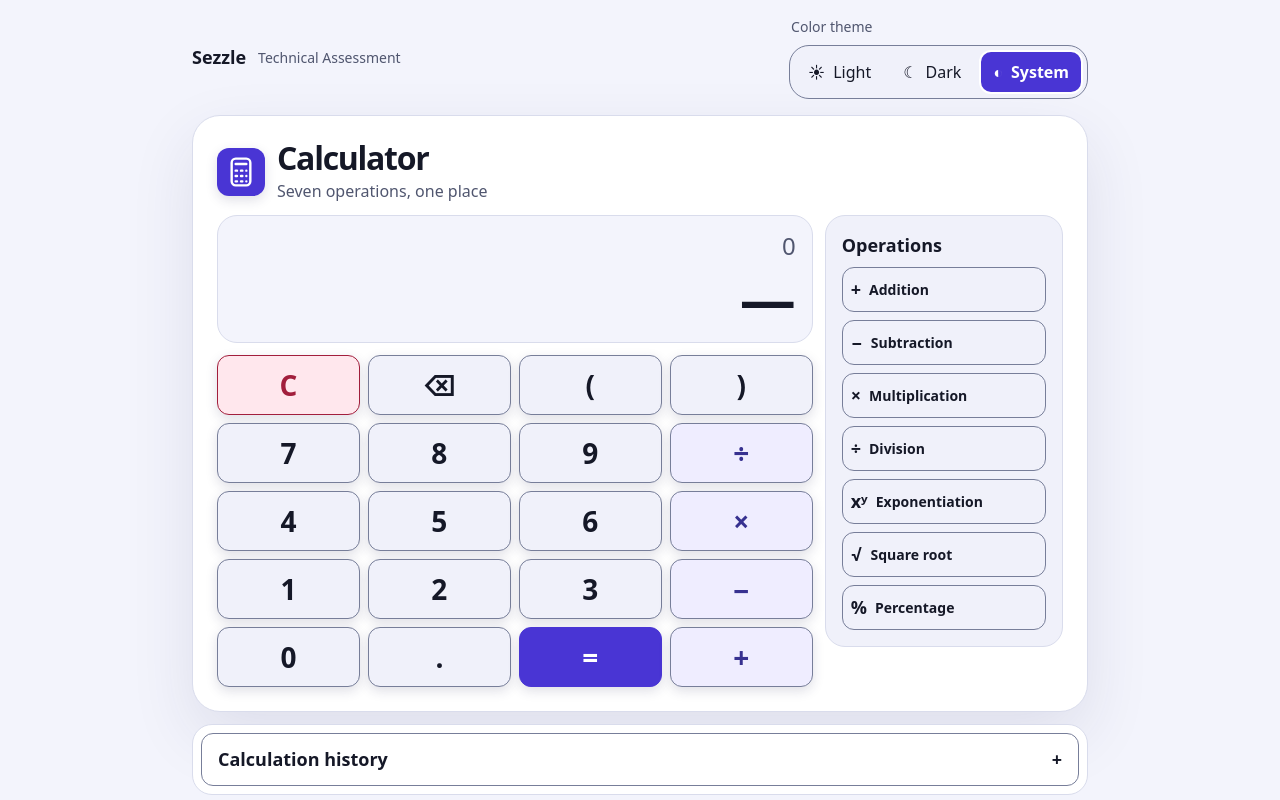
it: functional calculator integration › evaluates once with Enter after interacting with Decimal point
Click the button named "Decimal point".
click(439, 657)  # box [368, 627, 511, 687]
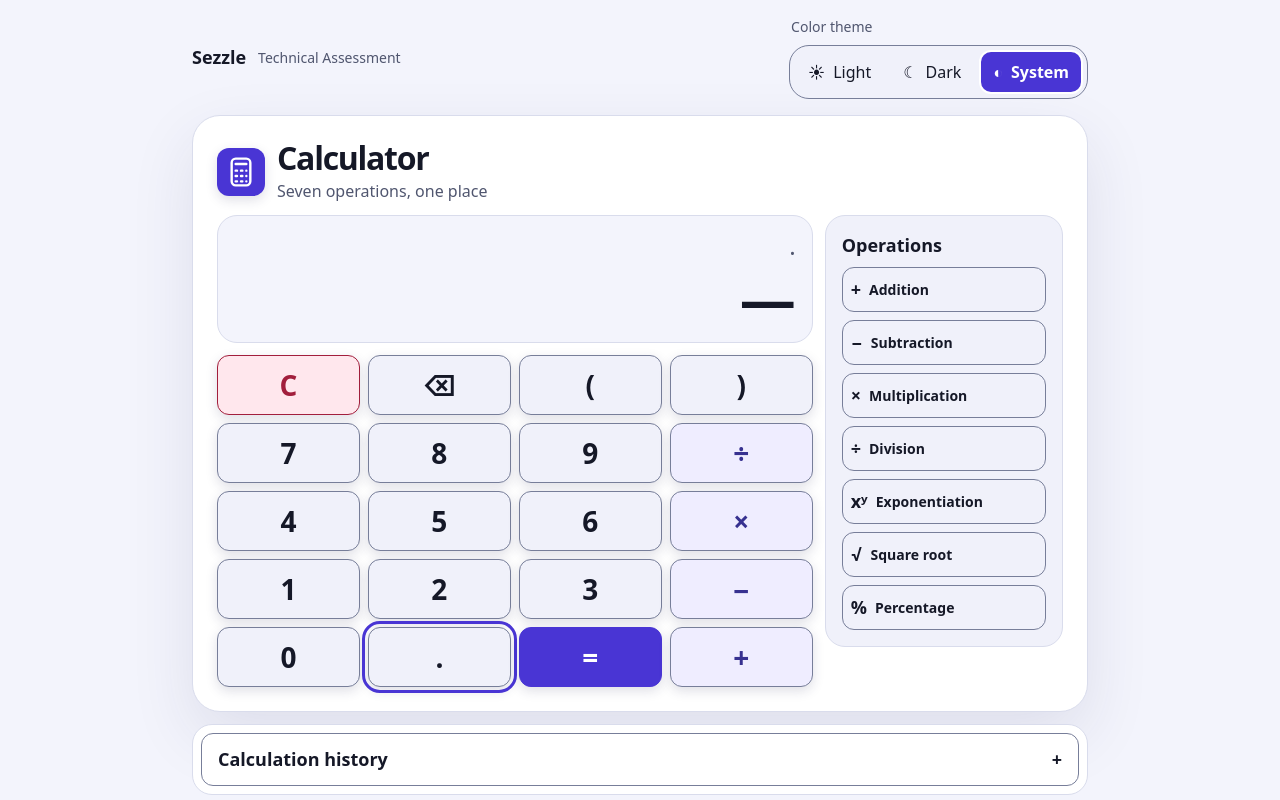
# Escape edits the expression without moving focus off the clicked button.
Type keys "{Escape}(2+3)*4"
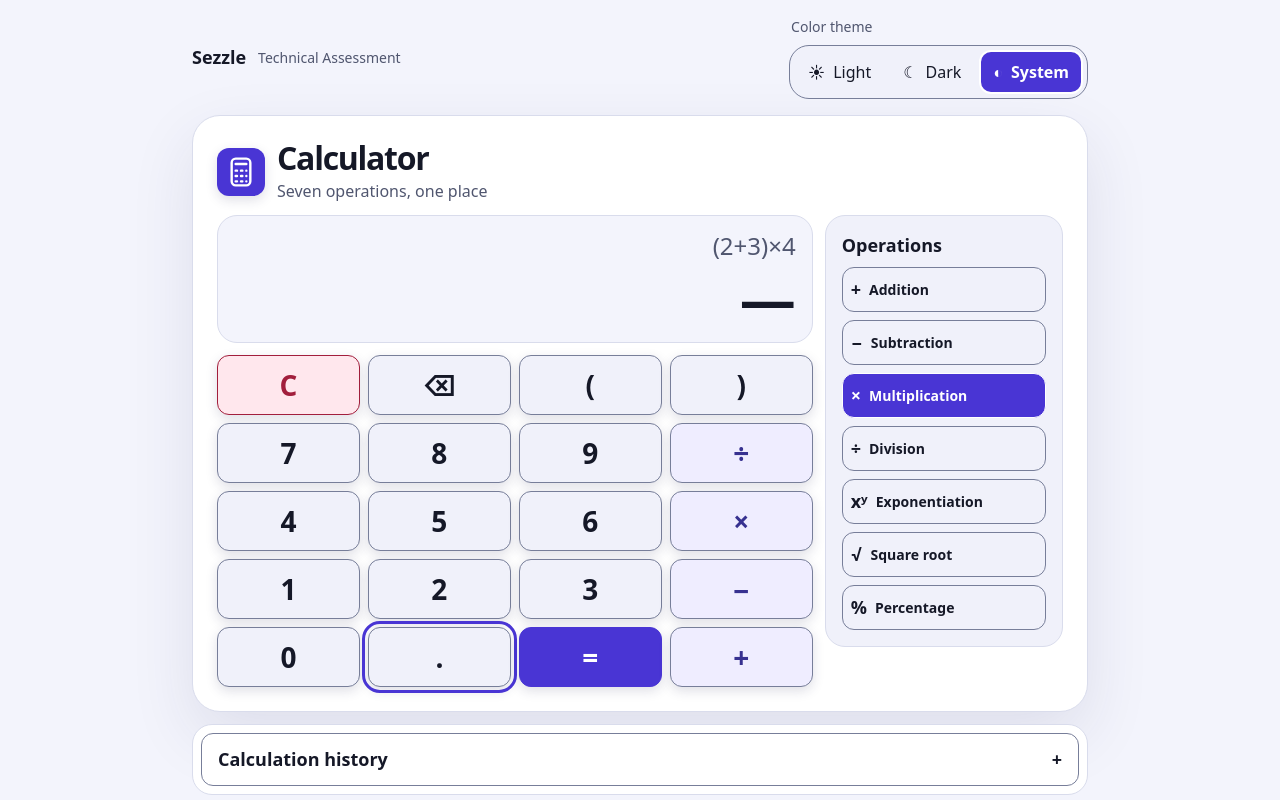
Result: the text with test id "calculator-expression" reads "(2+3)×4" at [713, 229, 796, 262]
Press Enter
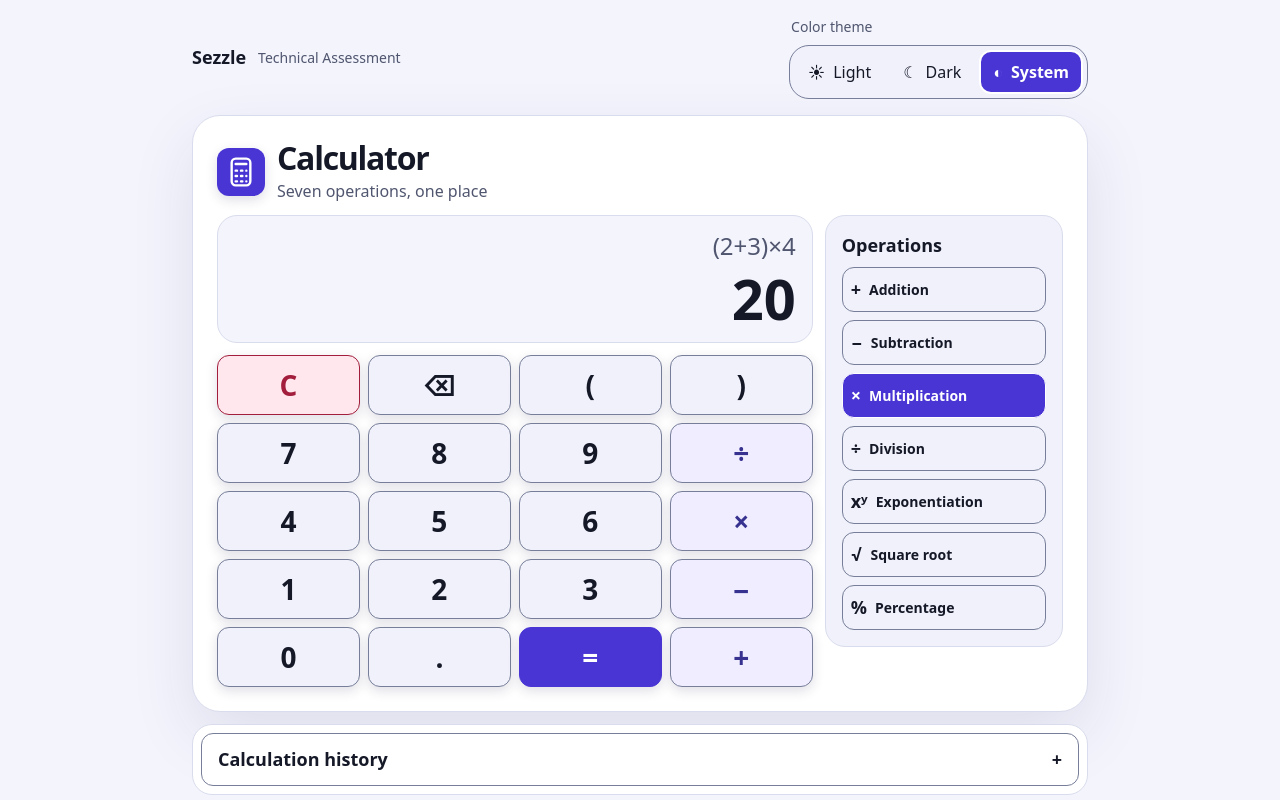
Result: the text with test id "calculator-expression" reads "(2+3)×4" at [713, 229, 796, 262]
Result: the text with test id "calculator-result" reads "20" at [732, 260, 796, 336]
